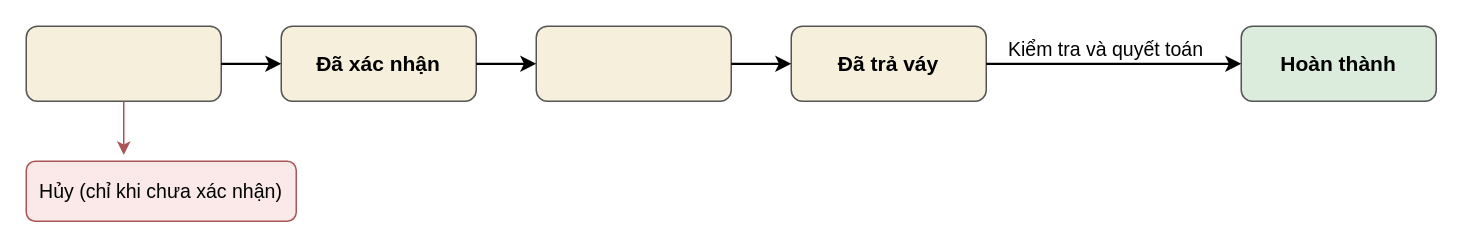
Some shapes in this 1463 by 248 pixel diagram are drawn without their labels. The shapes that lost their labels are listed below. From the top down, each one's centre as x and y in pixels, then its label:
the point at 123,63: Chờ xác nhận
the point at 633,63: Đang thuê
